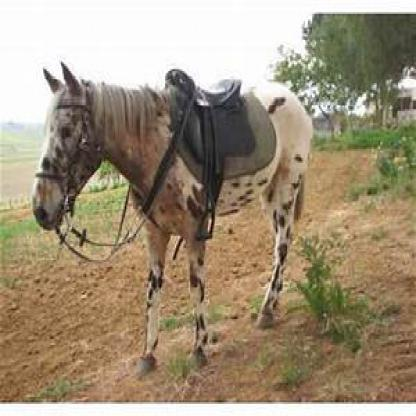horse: (36, 67, 318, 360)
